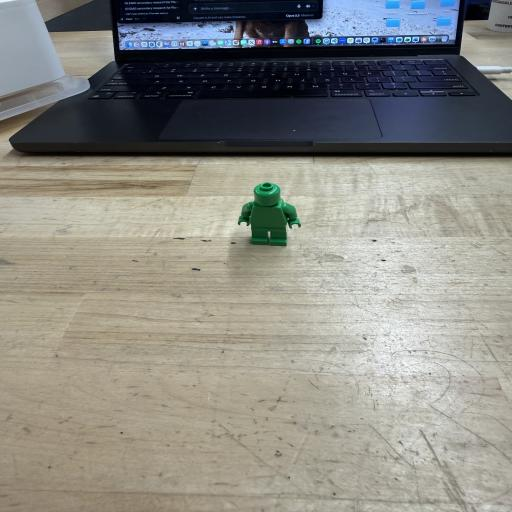green-minifig: (238, 182, 301, 246)
